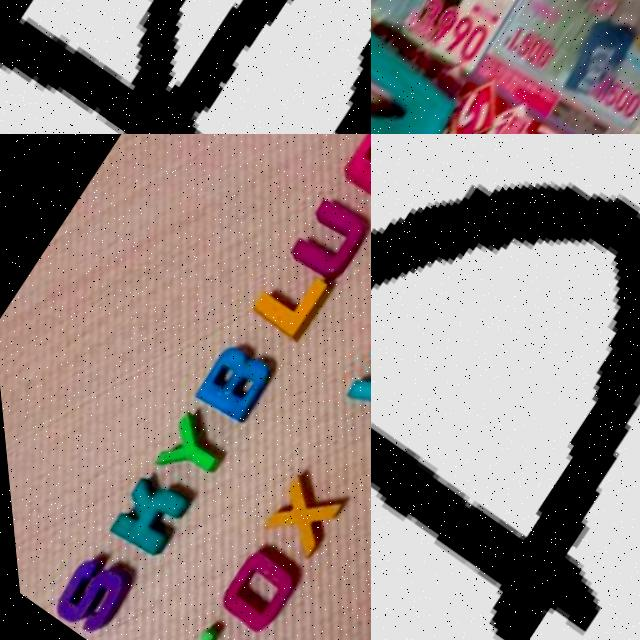B: (184, 336, 279, 428)
D: (371, 134, 640, 640)
E: (333, 134, 371, 206)
K: (96, 470, 189, 560)
L: (240, 251, 340, 347)
O: (203, 539, 303, 637)
S: (37, 549, 130, 639)
U: (279, 192, 371, 290)
V: (371, 19, 471, 134), (337, 337, 371, 425)
X: (252, 468, 343, 556)
Y: (143, 409, 232, 493)
